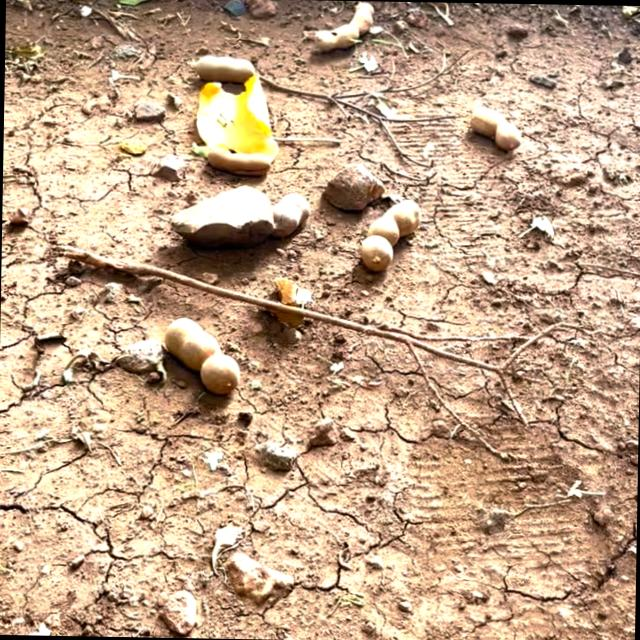tamarind: (162, 308, 249, 394), (358, 194, 431, 266), (300, 0, 382, 52), (470, 106, 524, 154), (185, 51, 262, 82)
